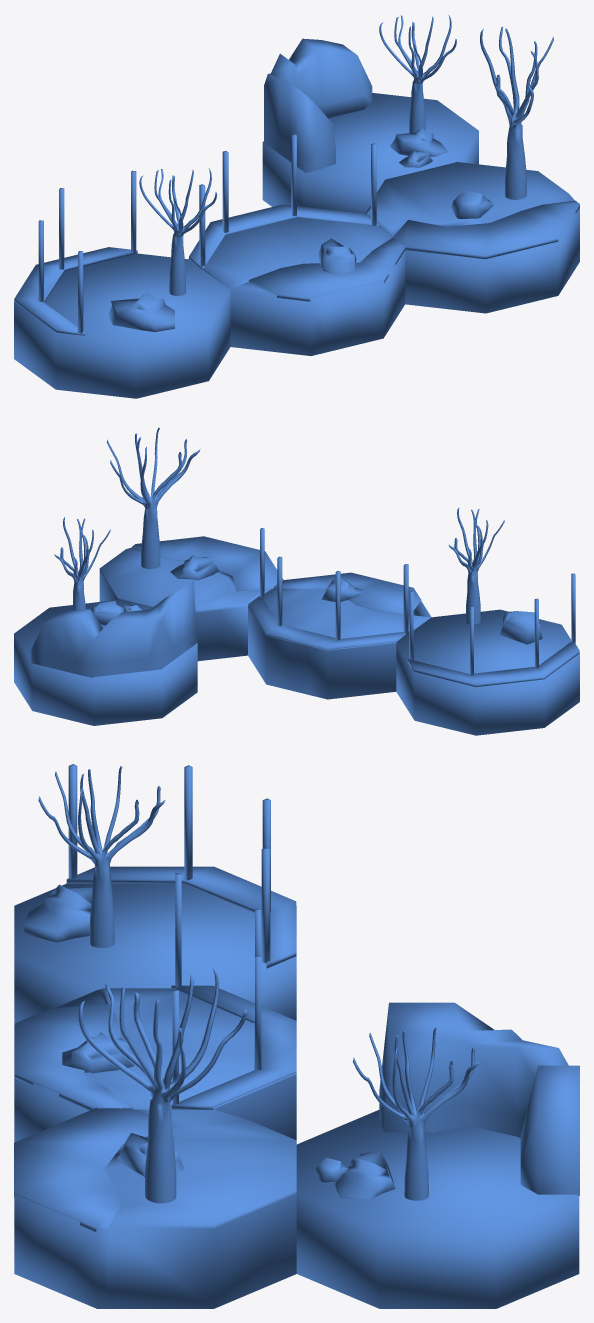
The model's file is Zoo_ElephantEnclosure.fbx.
3 renders of one model, top to bottom at view 1: azimuth 30°, elevation 25°; view 2: azimuth 150°, elevation 25°; view 3: azimuth 270°, elevation 25°, orthographic. The views are drawn at different scales.
Visible parts, largest first — view 1: Zoo_ElephantEnclosure; view 2: Zoo_ElephantEnclosure; view 3: Zoo_ElephantEnclosure.
Boxes of the visible parts, x1=… form: Zoo_ElephantEnclosure: x1=14, y1=15, x2=579, y2=398; Zoo_ElephantEnclosure: x1=14, y1=427, x2=579, y2=735; Zoo_ElephantEnclosure: x1=14, y1=764, x2=579, y2=1308.
Size of the model in its own units: 1903 by 755 by 1262.
